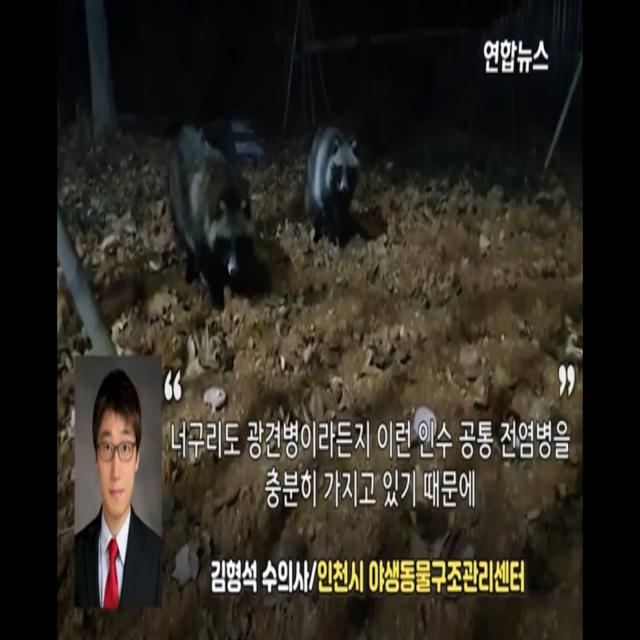racoon: (166, 118, 260, 311), (304, 124, 362, 232)
